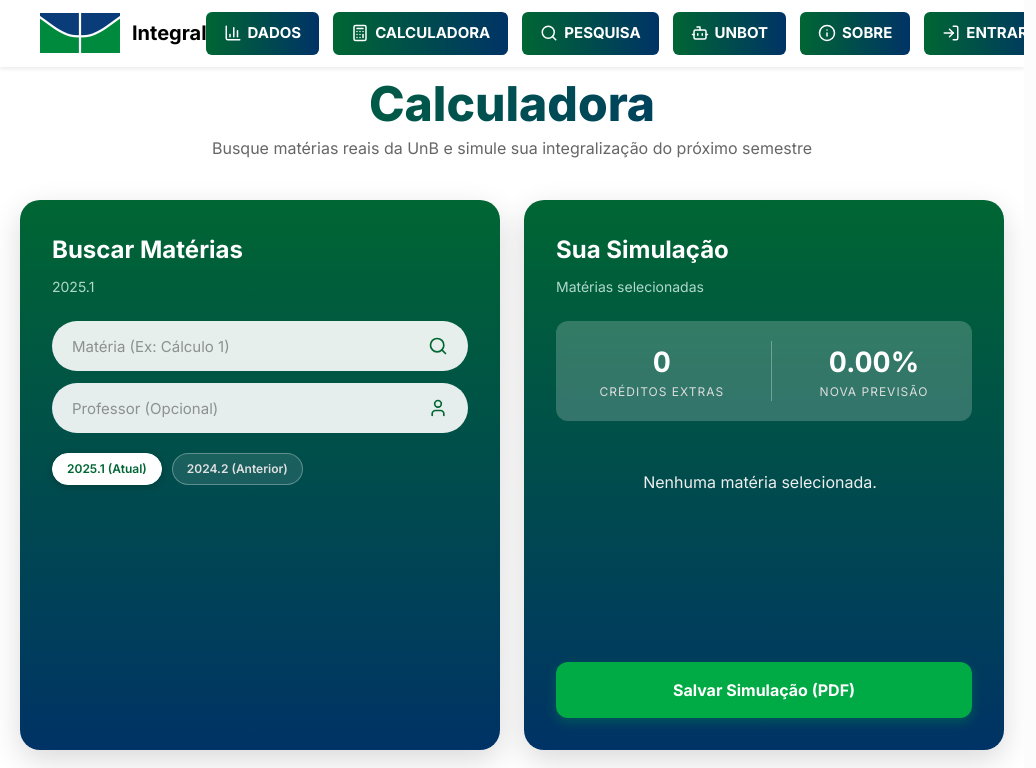
Test: Página de Calculadora › deve adicionar uma matéria à lista de selecionadas e atualizar créditos
Type "Algoritmos" into the field with placeholder "Matéria (Ex: Cálculo 1)" at (260, 346), box [52,321,468,371]
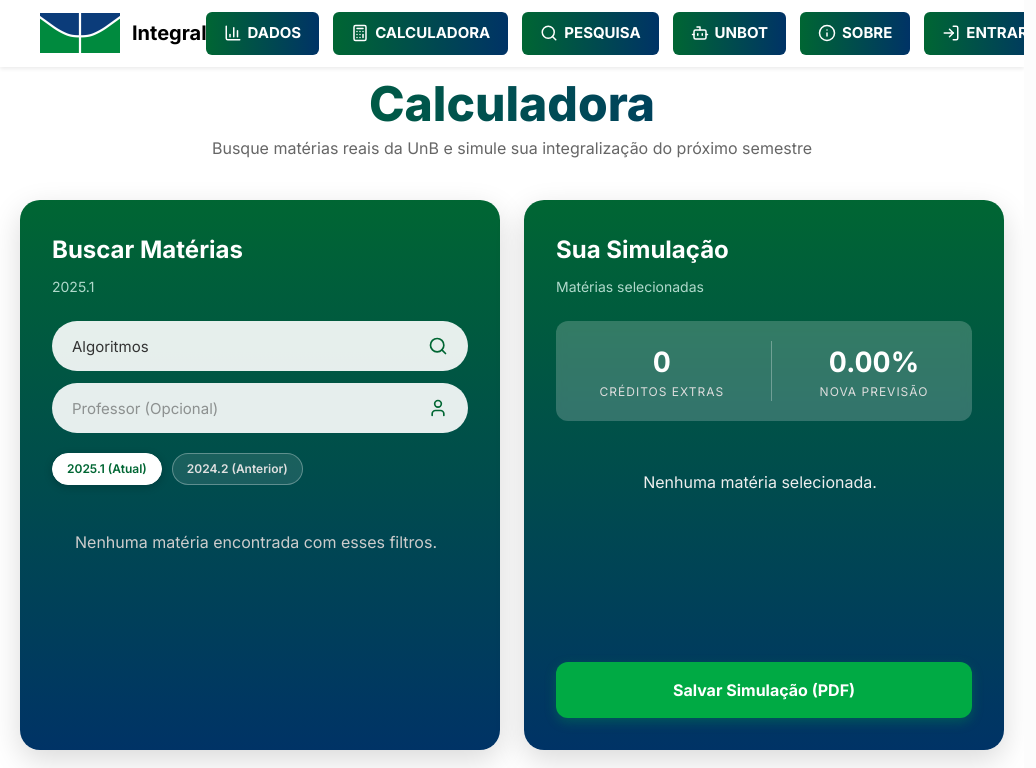
Click the button named "Buscar" at (438, 346), box [428,336,448,356]
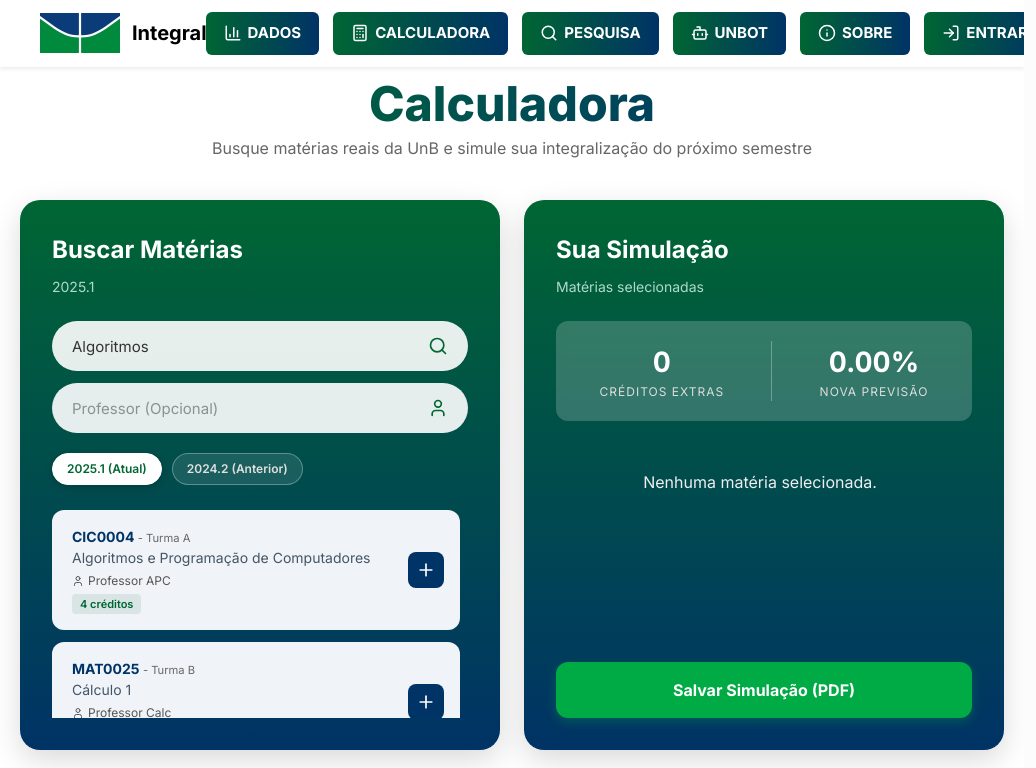
Now the text "Algoritmos e Programação de Computadores" is shown, box [72,547,396,568]
Click the button named "Adicionar Algoritmos e Programação de Computadores" at (426, 570), box [408,552,444,588]
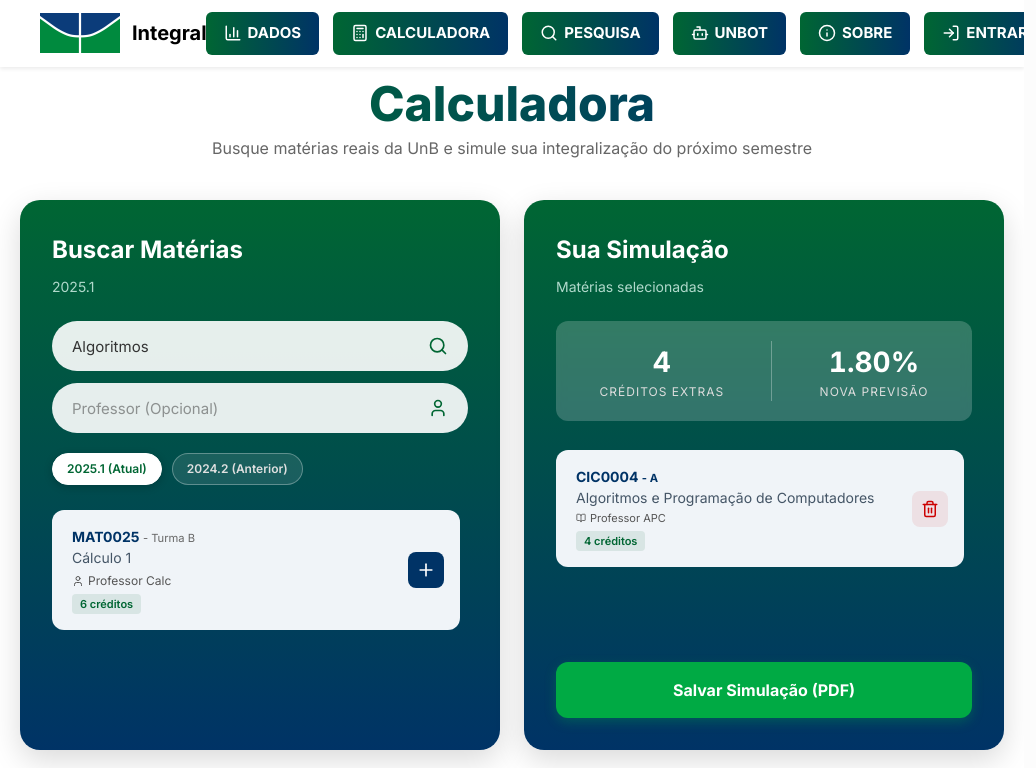
Now the button named "Remover Algoritmos e Programação de Computadores" is shown, box [912,490,948,526]
Now the text "4" is shown, box [653,345,671,379]
